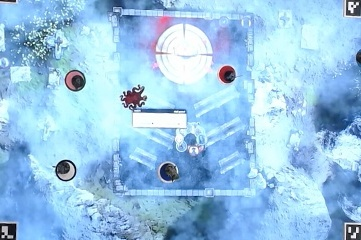blue: (156, 160, 179, 183)
giant_red_octopus: (118, 85, 148, 110)
pink_green: (64, 69, 88, 92)
red: (216, 64, 239, 87)
white: (54, 159, 76, 182)
